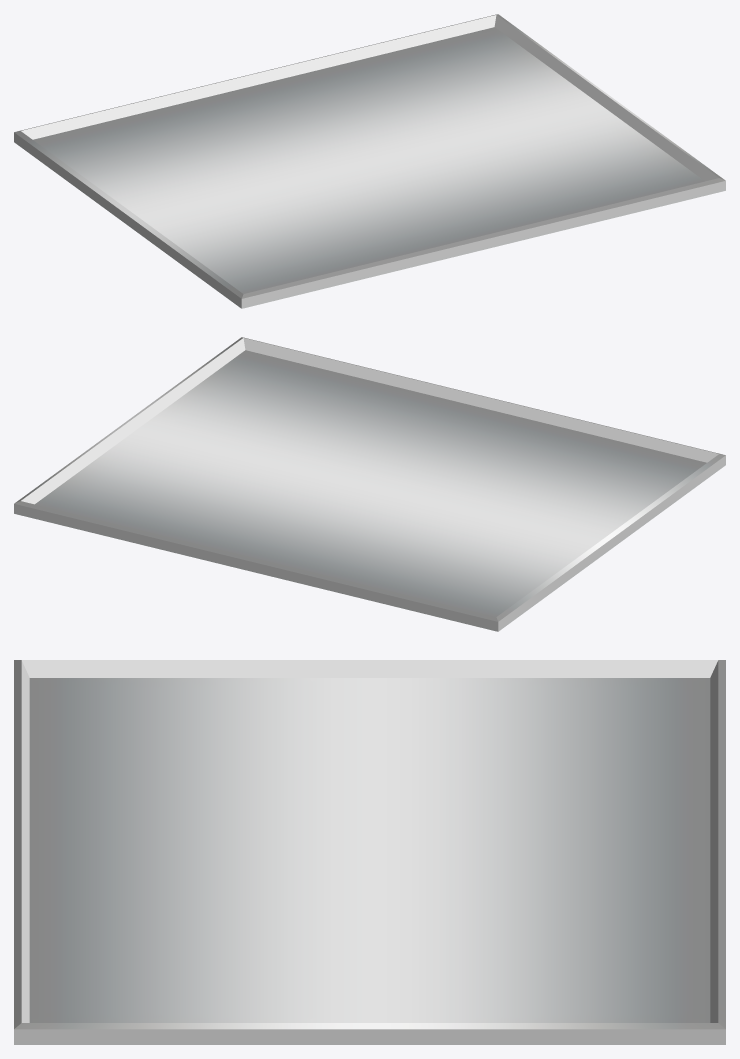
Rendered from Tray.FBX.
The picture shows the model from 3 angles, top to bottom: view 1: azimuth 30°, elevation 25°; view 2: azimuth 150°, elevation 25°; view 3: azimuth 270°, elevation 25°; orthographic projection. The views are drawn at different scales.
Parts seen in each view (by area): view 1: Tray; view 2: Tray; view 3: Tray.
Part boxes in pixels (bbox=[...]): Tray: bbox=[14, 14, 725, 308]; Tray: bbox=[14, 337, 725, 631]; Tray: bbox=[14, 660, 725, 1044].
Size of the model in its own units: 189 by 4.46 by 154.
